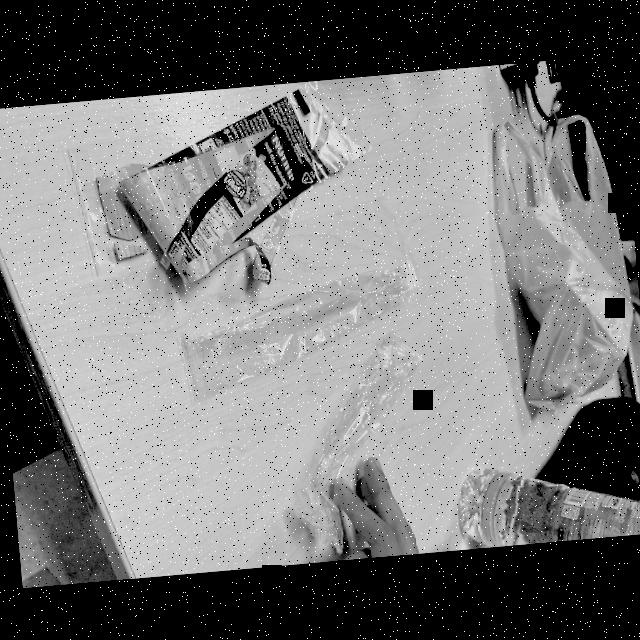scrap_plastic: (55, 75, 394, 307), (178, 248, 436, 414), (268, 339, 454, 533)
